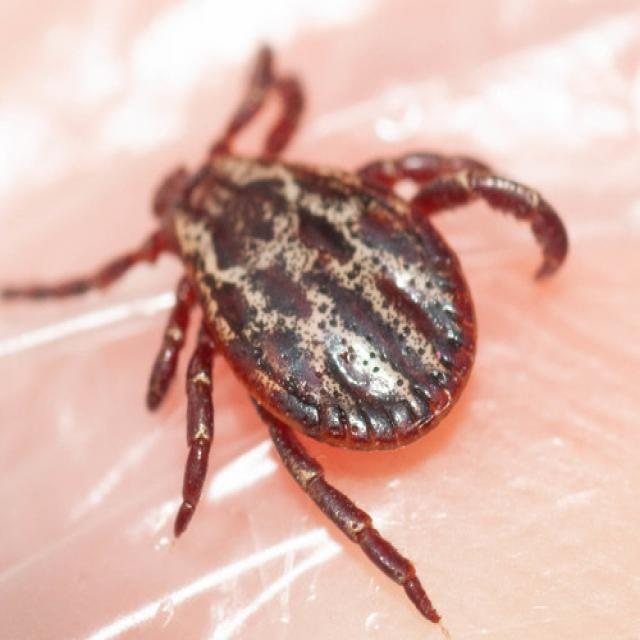Dermacentor Reticulatus-M: (0, 46, 570, 625)
